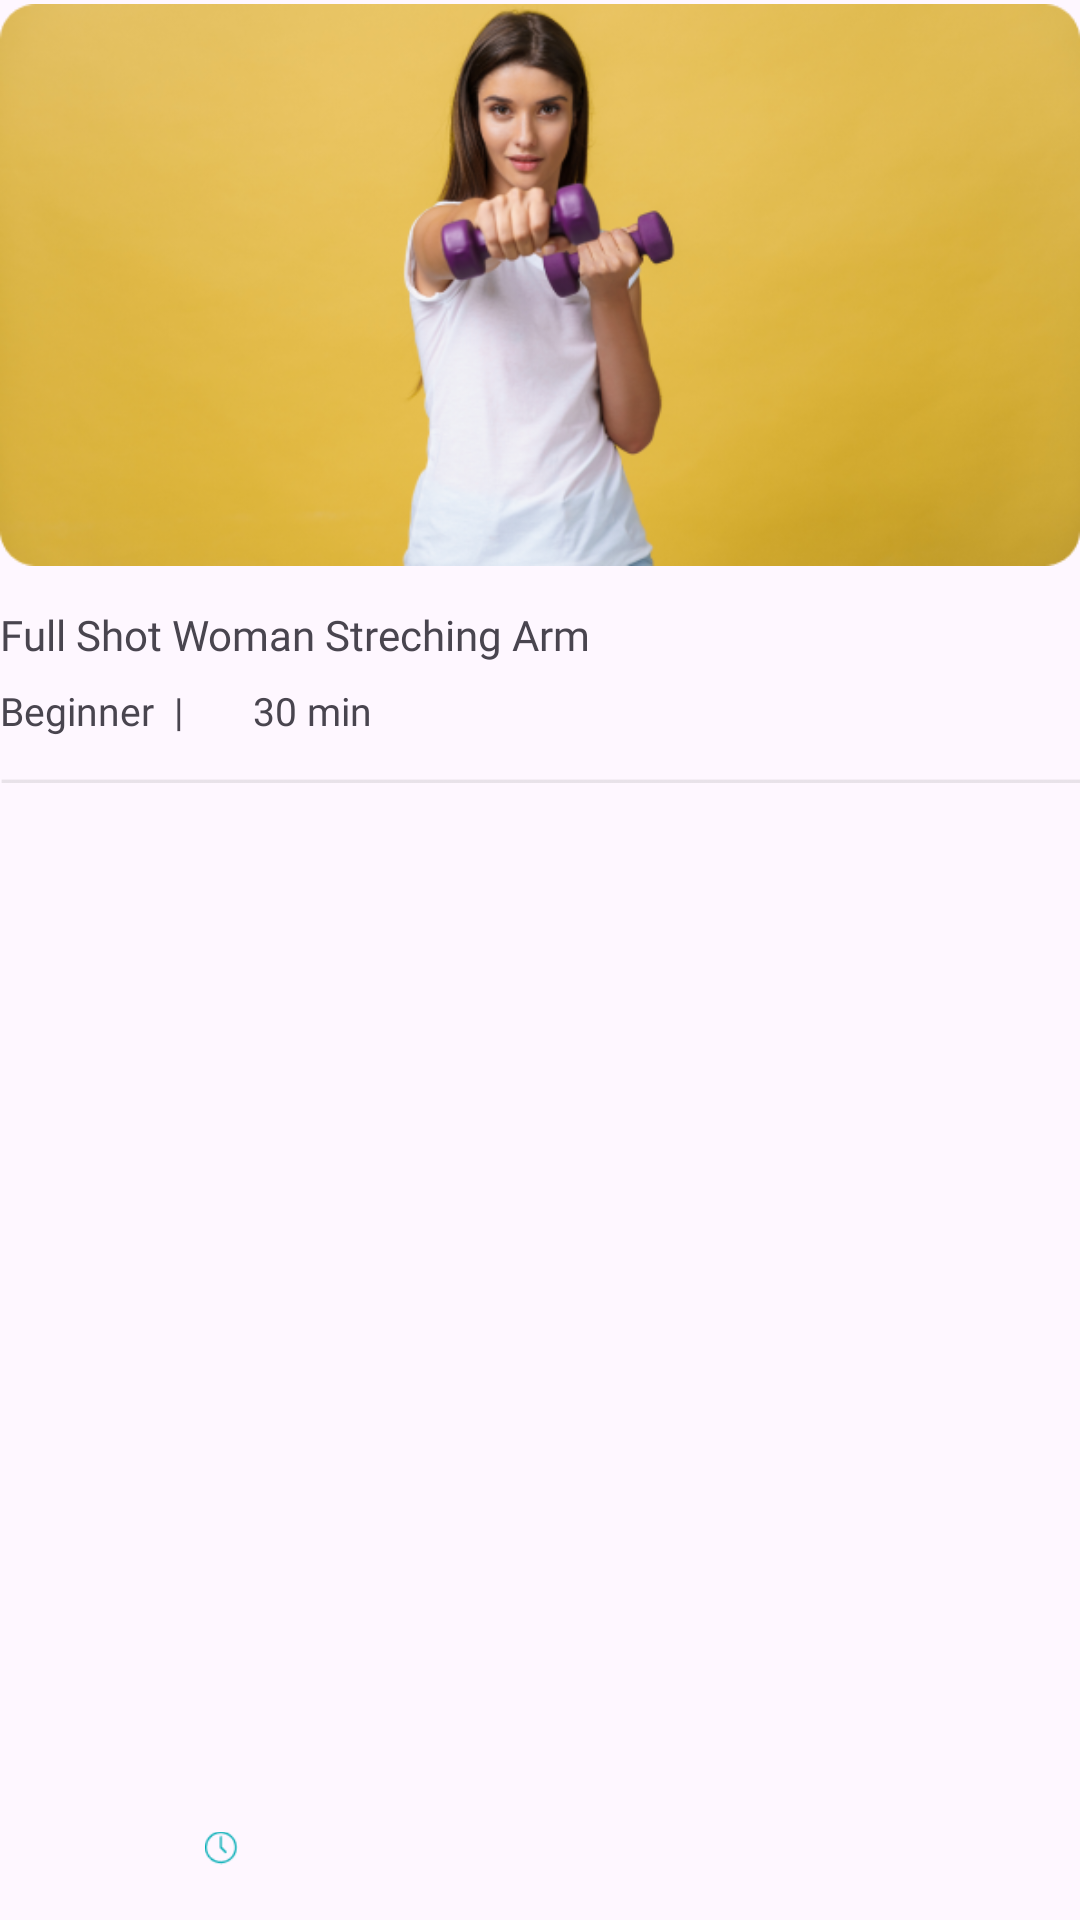

Named icons in this screenshot (1080px x 1920px) and their bounding boxes, Rect(x1, y1, x2, y2):
clock: Rect(205, 1832, 237, 1865)
